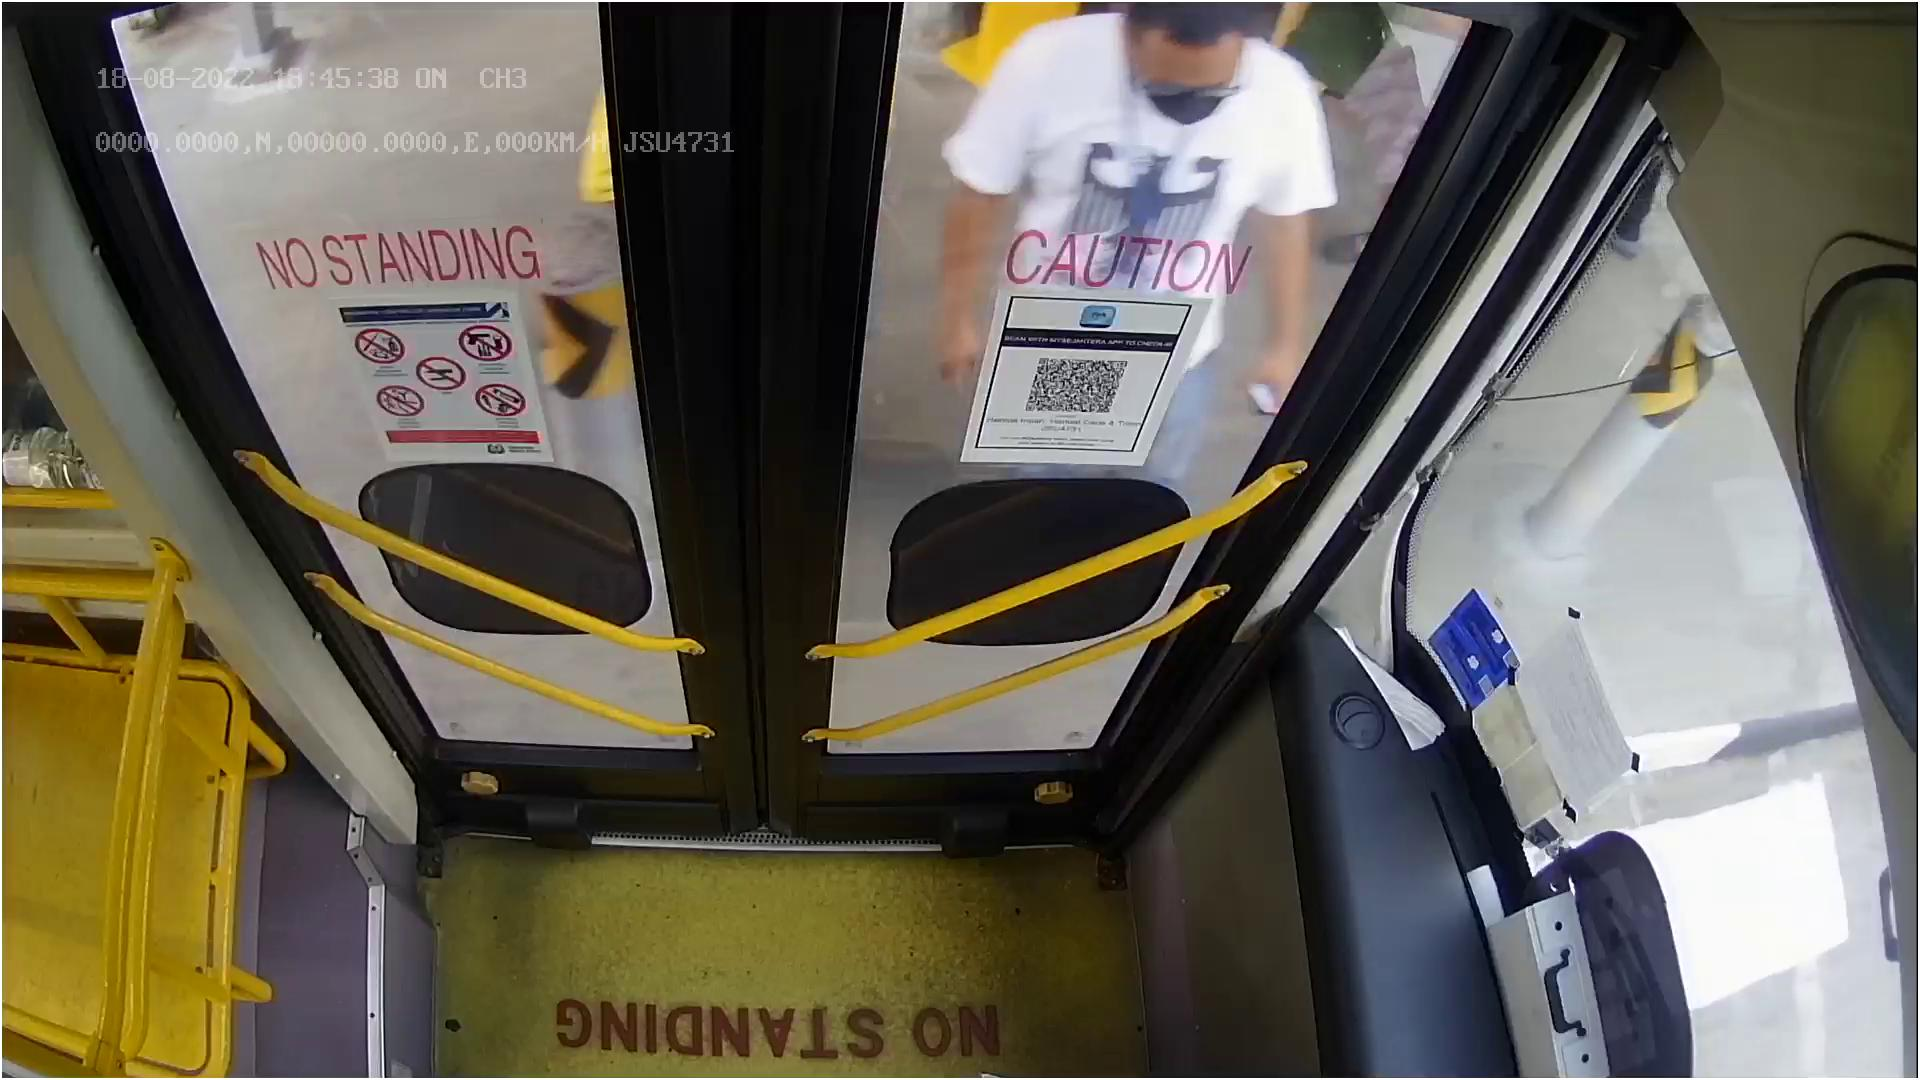close: (127, 0, 1448, 165)
